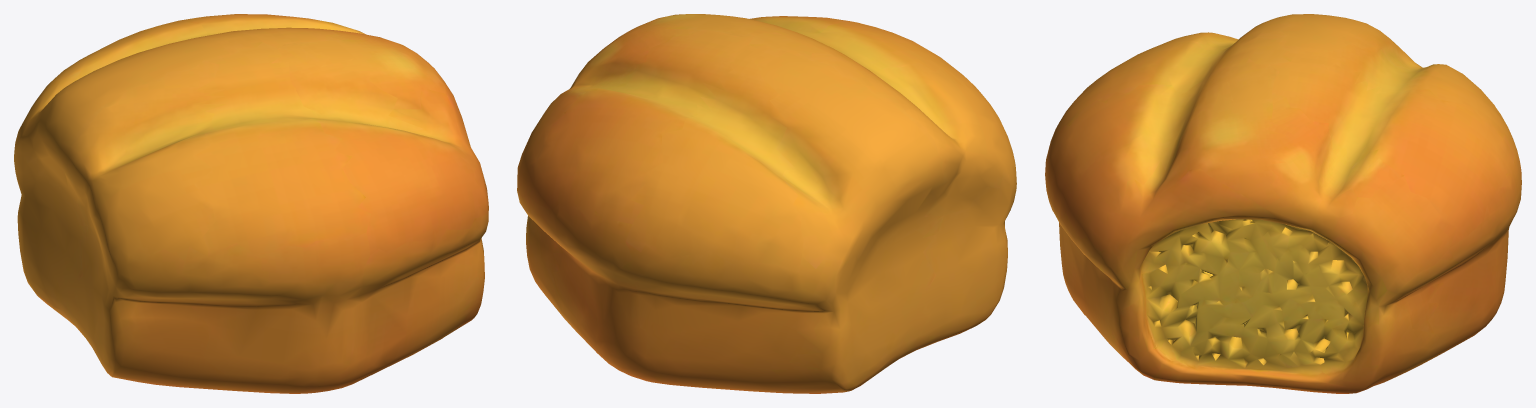
The model's file is food_bread.glb.
The picture shows the model from 3 angles, left to right: view 1: azimuth 30°, elevation 25°; view 2: azimuth 150°, elevation 25°; view 3: azimuth 270°, elevation 25°; orthographic projection. The views are drawn at different scales.
Visible parts, largest first — view 1: tripo_node_647e2fa4-c284-49bc-b363-9c557439b1f7; view 2: tripo_node_647e2fa4-c284-49bc-b363-9c557439b1f7; view 3: tripo_node_647e2fa4-c284-49bc-b363-9c557439b1f7.
Part boxes in pixels (box(x1,y1,x2,y2)): tripo_node_647e2fa4-c284-49bc-b363-9c557439b1f7: box(14, 14, 488, 393); tripo_node_647e2fa4-c284-49bc-b363-9c557439b1f7: box(517, 14, 1016, 393); tripo_node_647e2fa4-c284-49bc-b363-9c557439b1f7: box(1045, 14, 1521, 393).
Size of the model in its own units: 0.2205 by 0.15 by 0.2447.
1 material, 1 textured.
